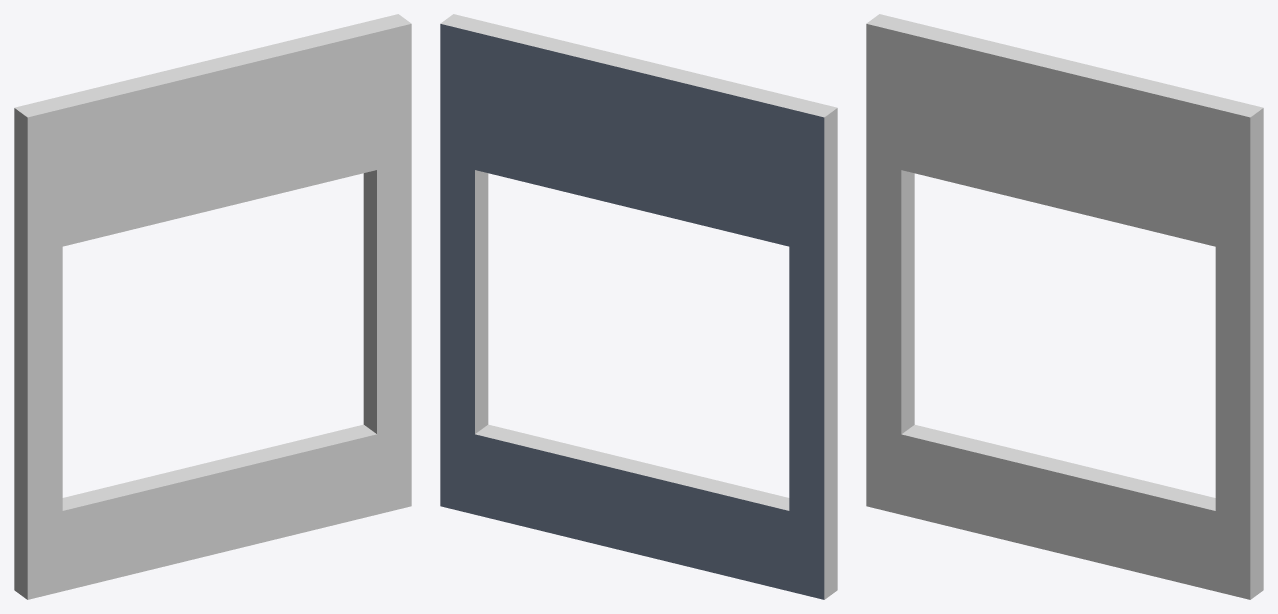
File: Wall3_C2_05.fbx
3 views of the same model, side by side, from view 1: azimuth 30°, elevation 25°; view 2: azimuth 150°, elevation 25°; view 3: azimuth 330°, elevation 25° (orthographic).
Parts seen in each view (by area): view 1: Wall3_C2_05; view 2: Wall3_C2_05; view 3: Wall3_C2_05.
Part boxes in pixels (x1,y1,x2,y2): Wall3_C2_05: (14, 14, 411, 599); Wall3_C2_05: (440, 14, 837, 599); Wall3_C2_05: (866, 14, 1263, 599).
Size of the model in its own units: 250 by 300 by 15.
